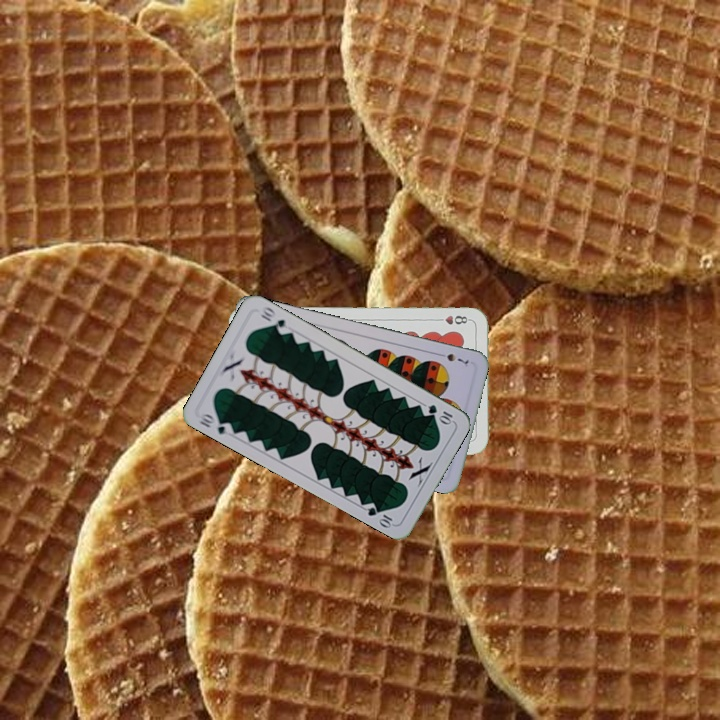G10: (195, 408, 235, 438), (424, 400, 456, 426)
H8: (432, 312, 472, 327)
S7: (433, 349, 471, 366)
